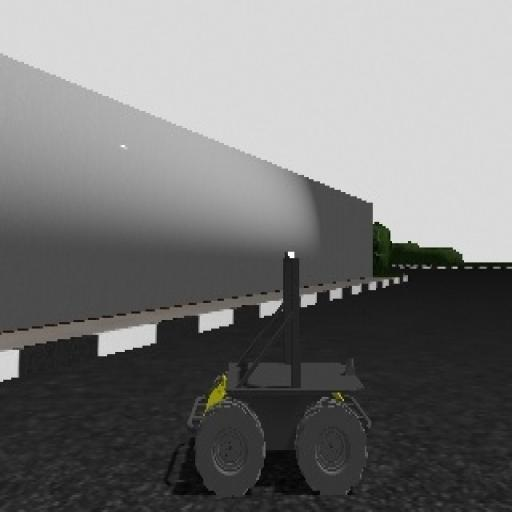huskya200: (170, 238, 380, 506)
